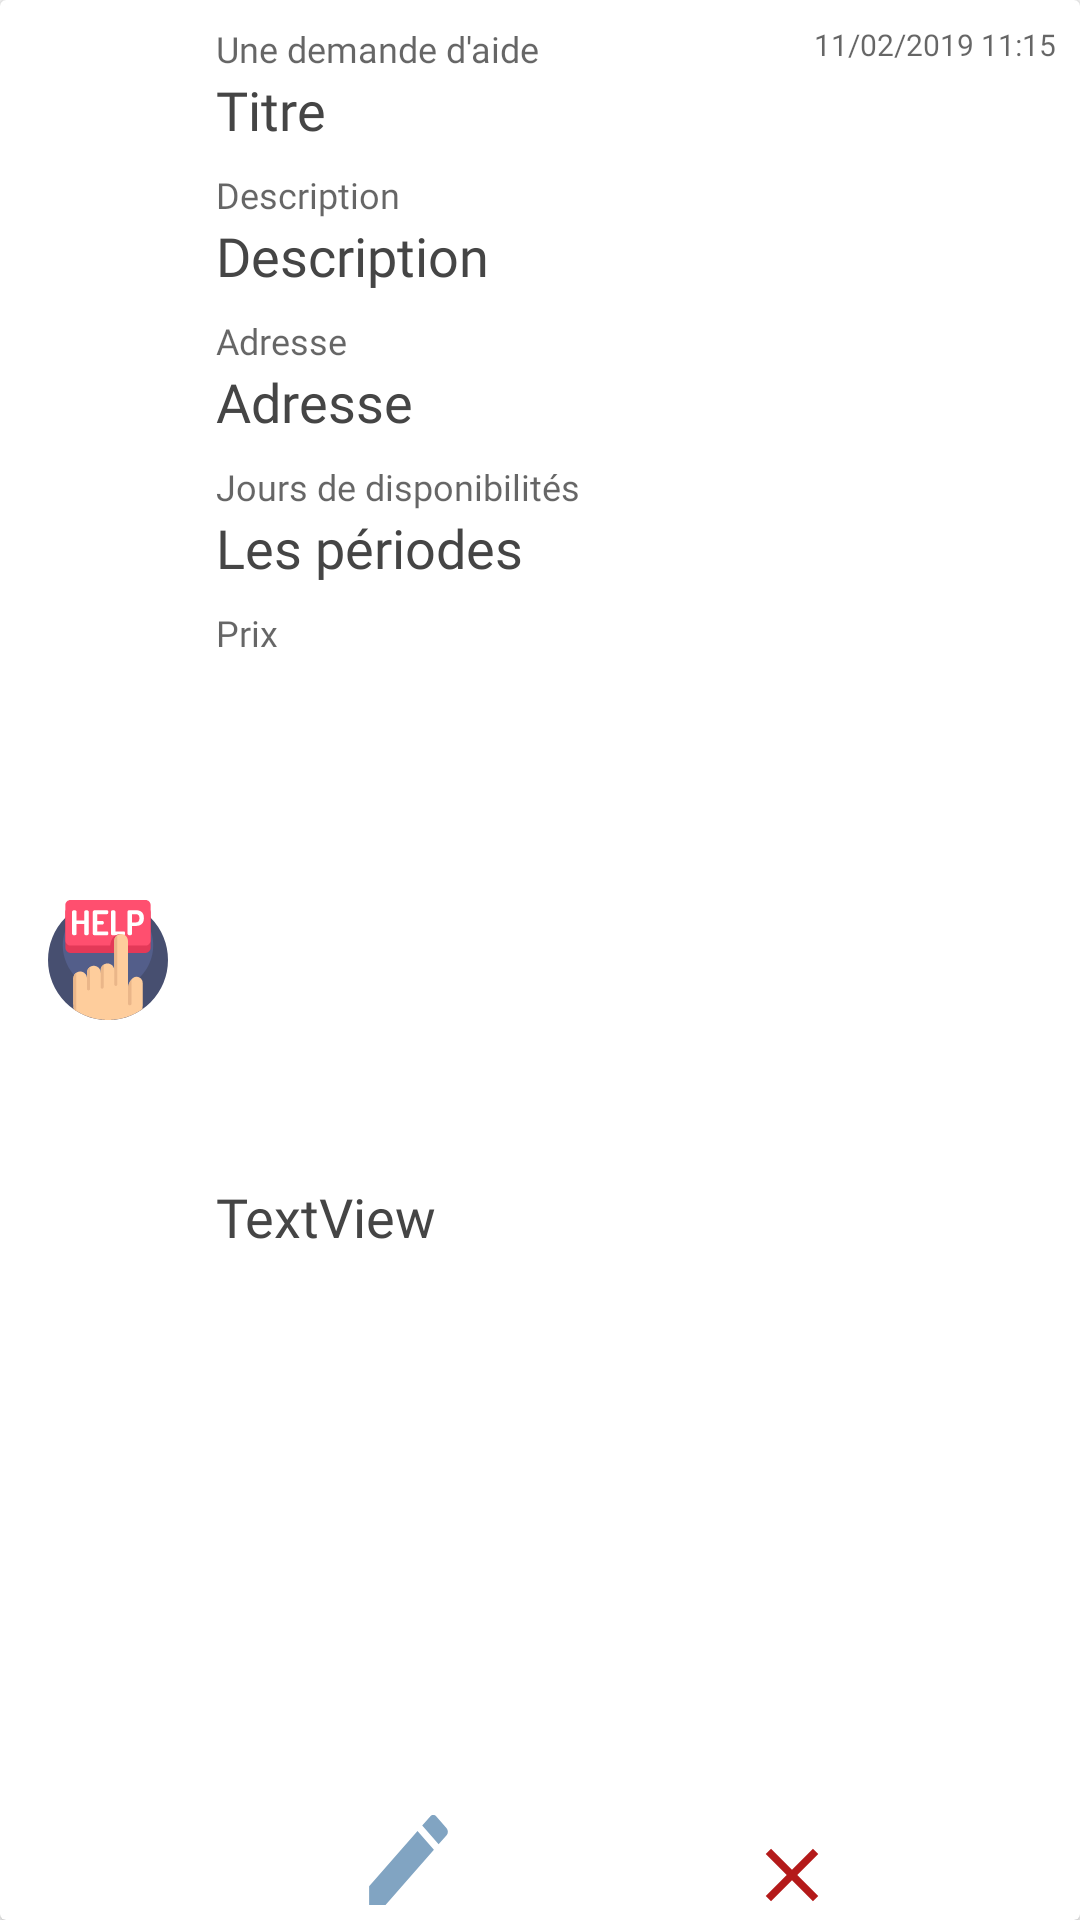

Icons on this 1080*1920 Android screen, each with its box as BBox(x1, y1, x2, y2):
close: BBox(766, 1849, 818, 1901)
edit: BBox(369, 1815, 448, 1905)
requests: BBox(48, 900, 168, 1020)
